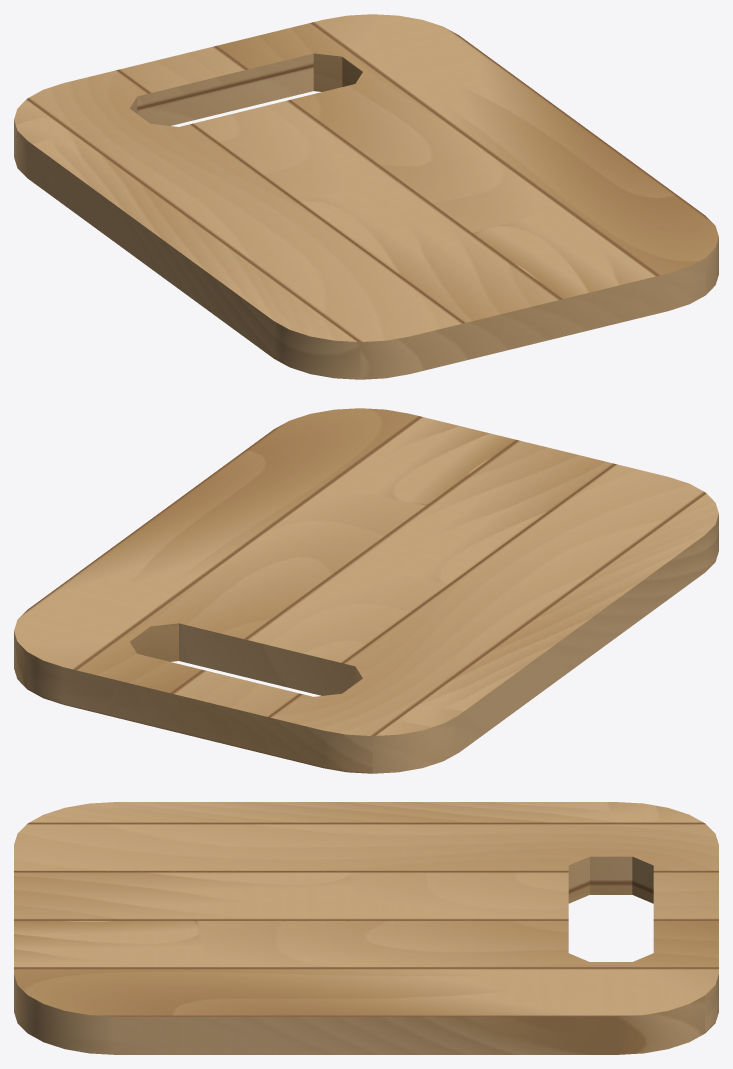
File: cuttingBoard.fbx
The picture shows the model from 3 angles, top to bottom: view 1: azimuth 30°, elevation 25°; view 2: azimuth 150°, elevation 25°; view 3: azimuth 270°, elevation 25°; orthographic projection.
Visible parts, largest first — view 1: cuttingBoard; view 2: cuttingBoard; view 3: cuttingBoard.
Part boxes in pixels (<box>): cuttingBoard: <box>14,14,718,379</box>; cuttingBoard: <box>14,408,718,773</box>; cuttingBoard: <box>14,802,718,1054</box>.
Bounding box in the file's own units: 3.6 × 0.3 × 5.
Materials: 1 (1 with a texture image).
